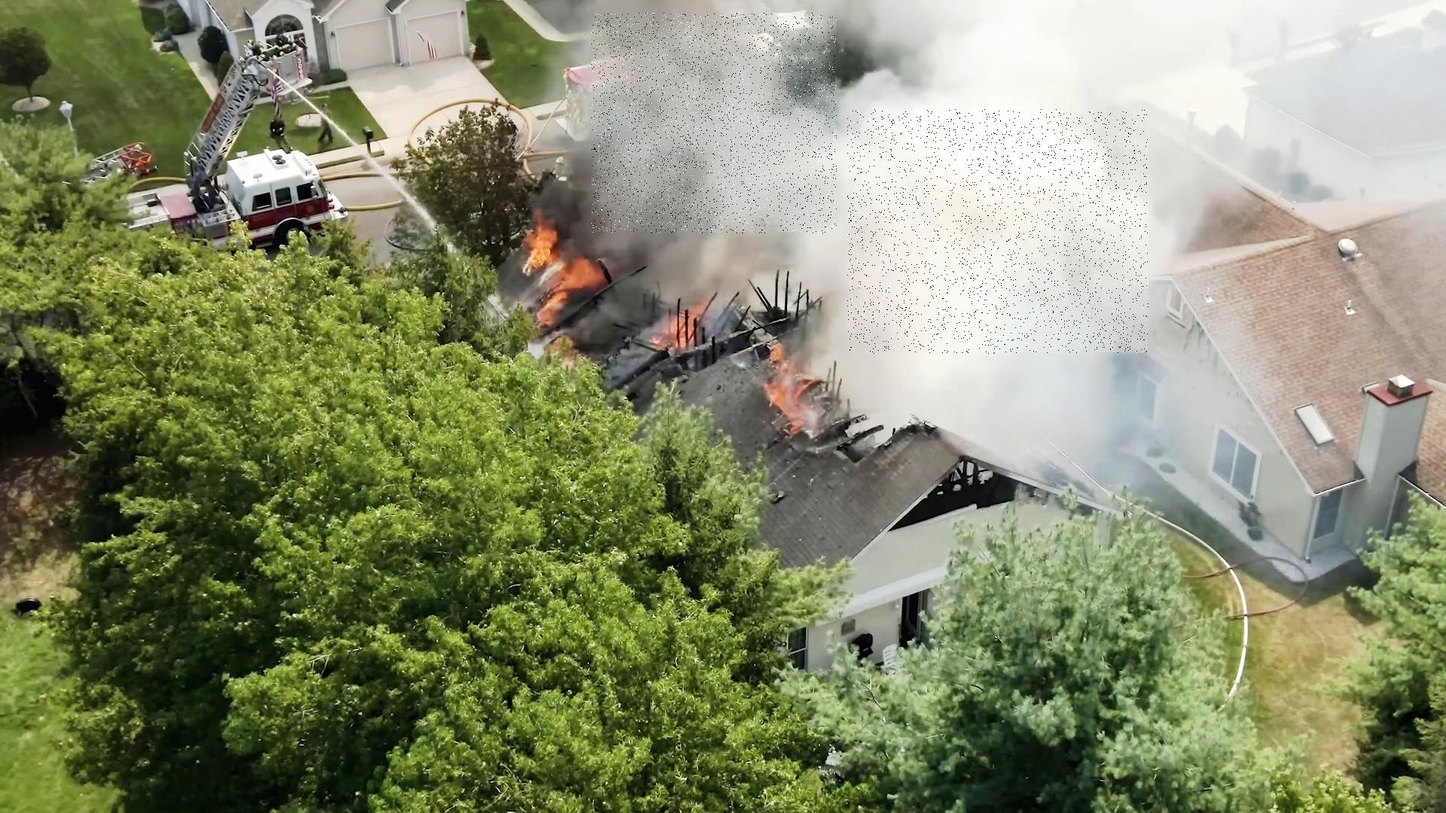smoke: (847, 110, 1149, 354), (591, 13, 837, 234)
